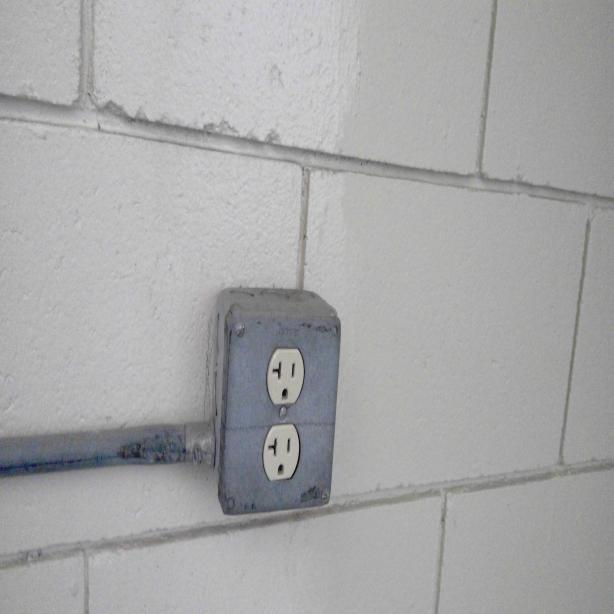typeb: (263, 424, 300, 483), (267, 348, 304, 402)
